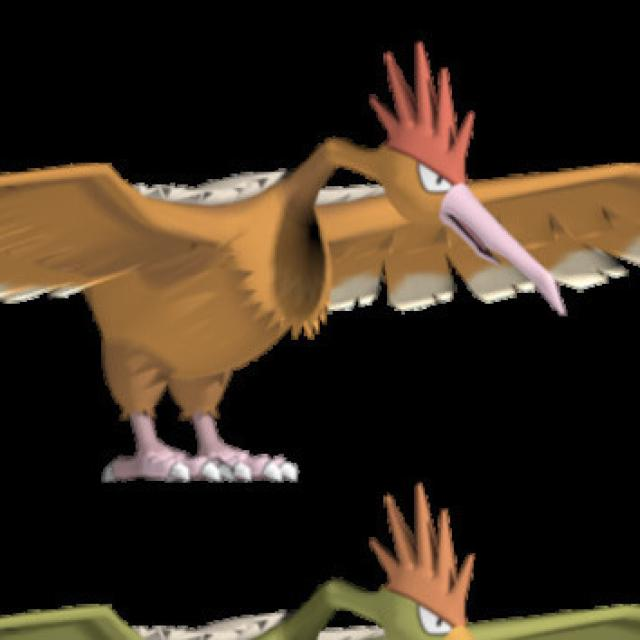Fearow: (0, 55, 571, 481)
